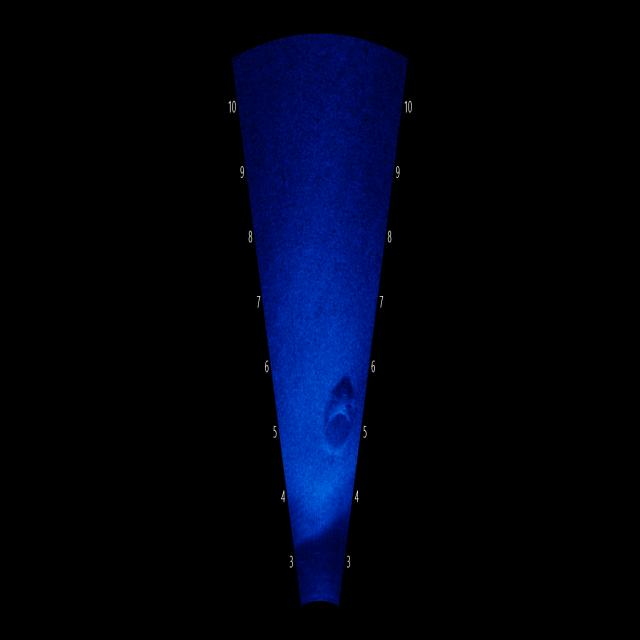circle: (310, 386, 362, 466)
